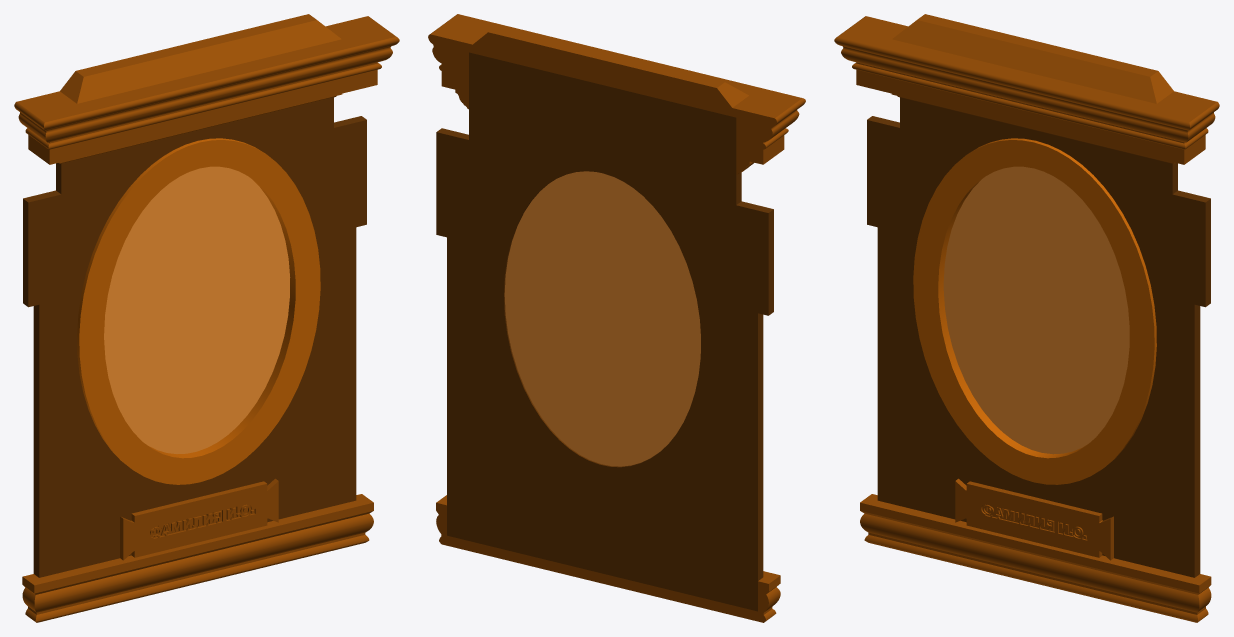
The model's file is портрет.obj.
The picture shows the model from 3 angles, left to right: view 1: azimuth 30°, elevation 25°; view 2: azimuth 150°, elevation 25°; view 3: azimuth 330°, elevation 25°; orthographic projection.
Bounding box in the file's own units: 1.12 × 1.6 × 0.1603.
